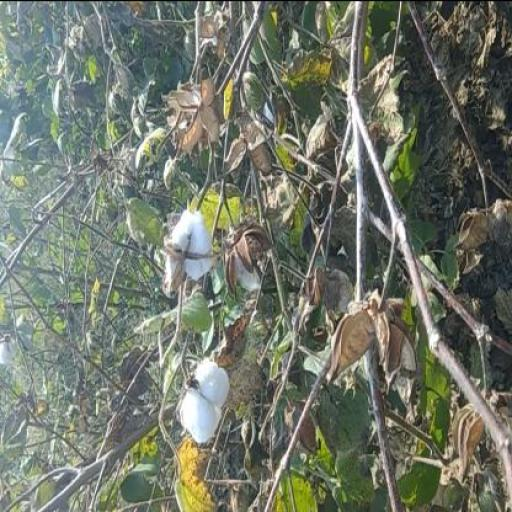cotton_ready: (155, 170, 239, 301), (166, 354, 243, 467)
